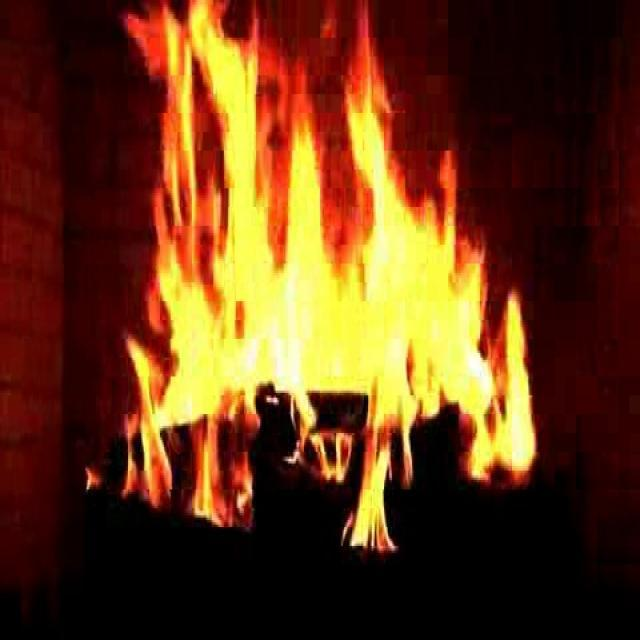Fire: (105, 8, 573, 502)
